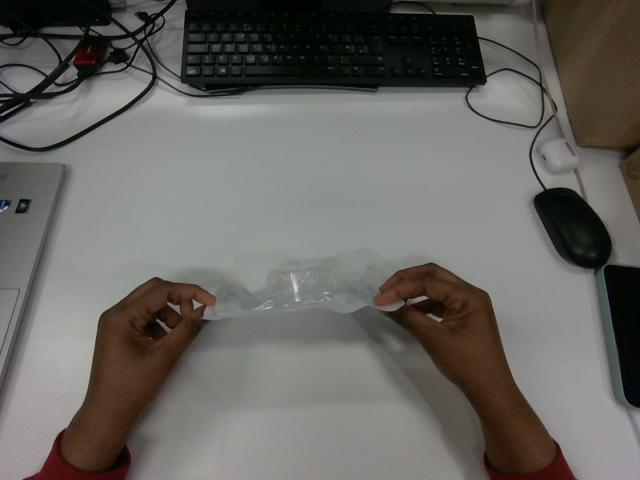gallipot: (205, 250, 403, 319)
